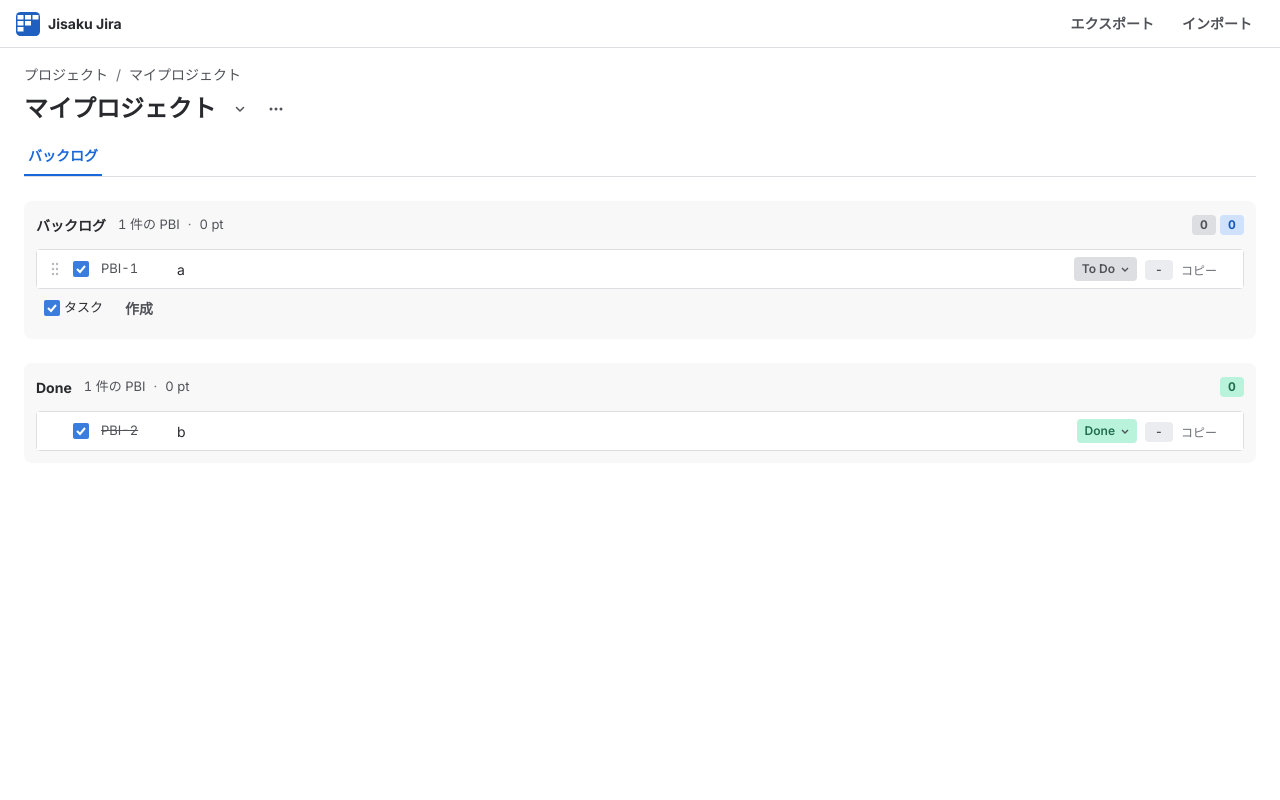
Test case: Done エリア › Done エリアの行を選ぶと詳細を開く
Click the button "b" at (181, 431), box [177,420,186,442]
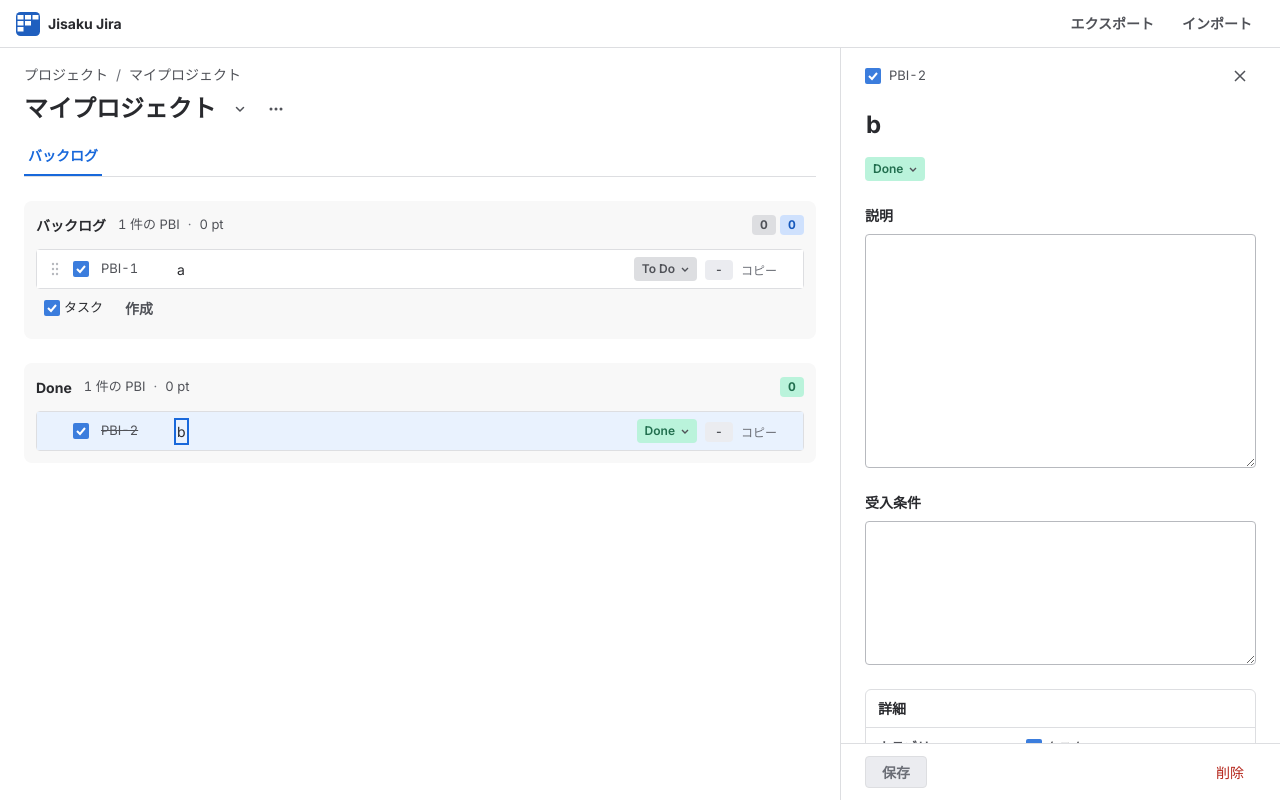
Expected: the heading "PBI-2" is shown, [865,66,926,86]
